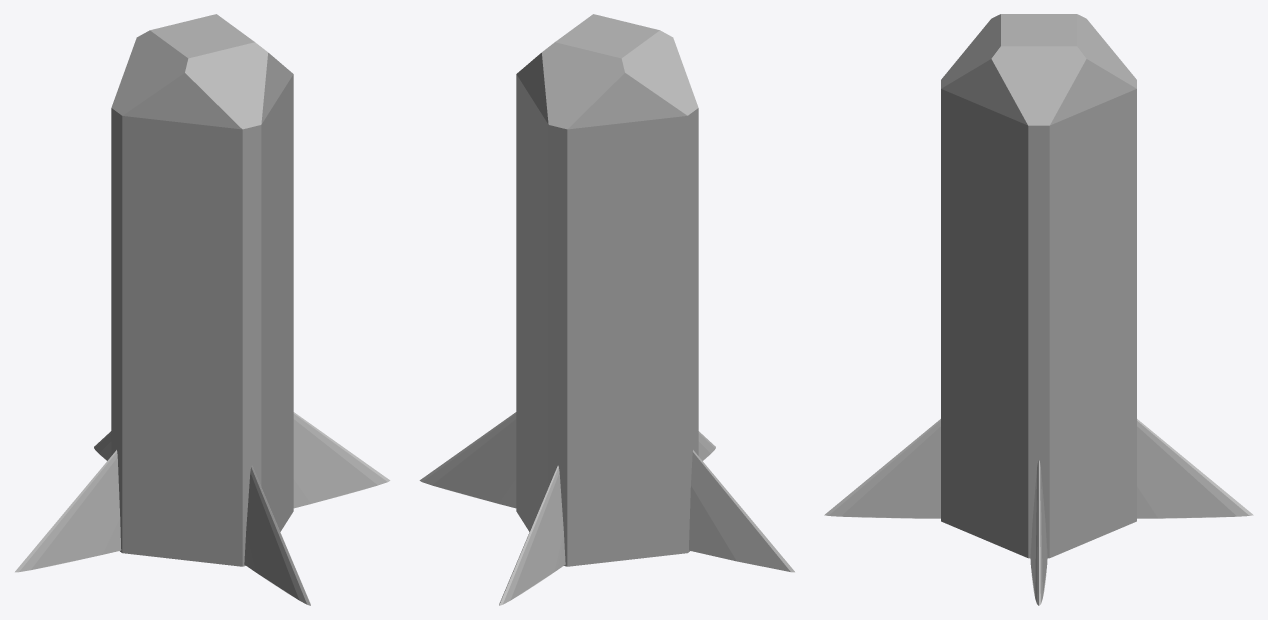
File: missile.obj
The picture shows the model from 3 angles, left to right: view 1: azimuth 30°, elevation 25°; view 2: azimuth 150°, elevation 25°; view 3: azimuth 270°, elevation 25°; orthographic projection.
Parts seen in each view (by area): view 1: Cube; view 2: Cube; view 3: Cube.
Part boxes in pixels (x1=…): Cube: x1=15, y1=14, x2=390, y2=605; Cube: x1=419, y1=14, x2=794, y2=605; Cube: x1=824, y1=14, x2=1253, y2=605.
Size of the model in its own units: 4.39 by 5.49 by 4.39.
2 materials, 1 textured.
